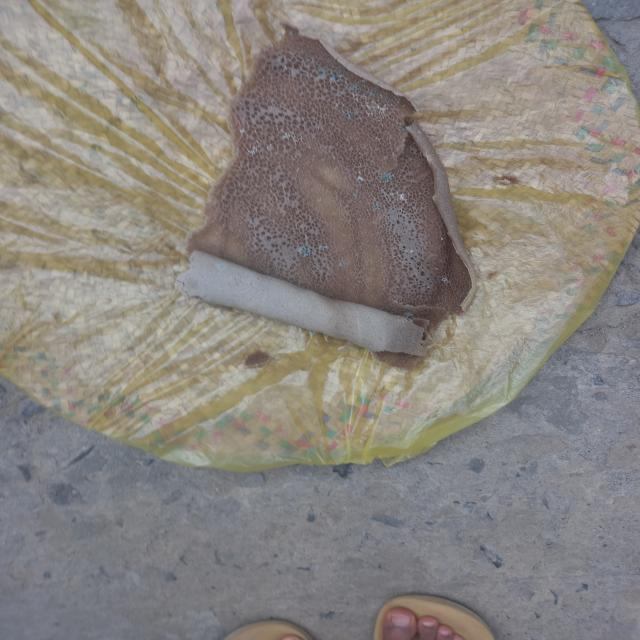injera_mold: (360, 100, 388, 117), (277, 129, 302, 143), (244, 140, 261, 155), (379, 172, 394, 182), (299, 246, 313, 256), (438, 276, 452, 285), (395, 193, 409, 202), (343, 109, 357, 118), (347, 83, 361, 92), (331, 71, 341, 80), (238, 128, 246, 139), (403, 310, 413, 318), (398, 123, 408, 131), (350, 93, 360, 101), (316, 68, 325, 75), (370, 89, 379, 96), (374, 203, 382, 210), (277, 65, 285, 71), (357, 175, 364, 181), (320, 245, 328, 250), (217, 264, 225, 269), (374, 136, 382, 141), (336, 102, 344, 107), (338, 261, 346, 265), (386, 98, 394, 102), (318, 197, 322, 203), (353, 193, 358, 197), (295, 167, 299, 172), (410, 250, 416, 253), (278, 57, 282, 61), (357, 171, 361, 174), (440, 237, 443, 240), (426, 286, 429, 288)
